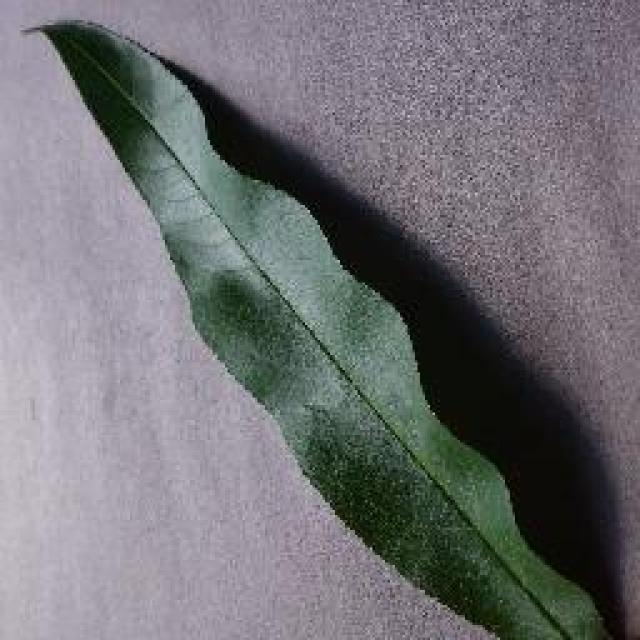Pea_healthy: (91, 49, 538, 591)
